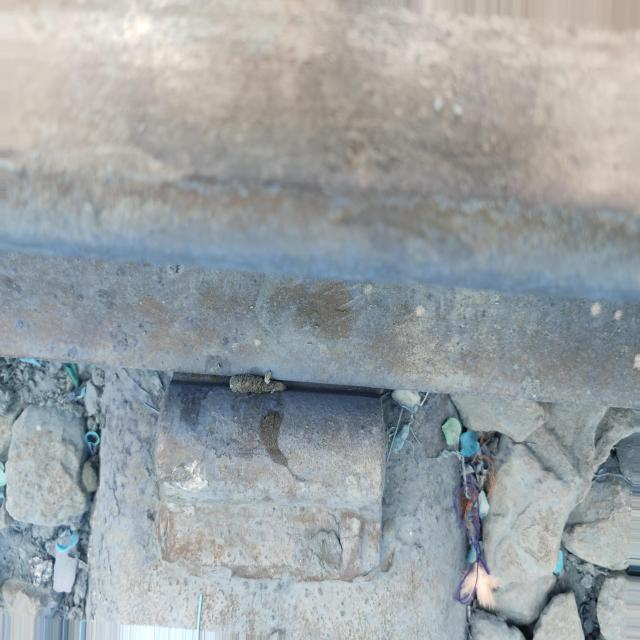Missing Fastener: (117, 337, 434, 631)
